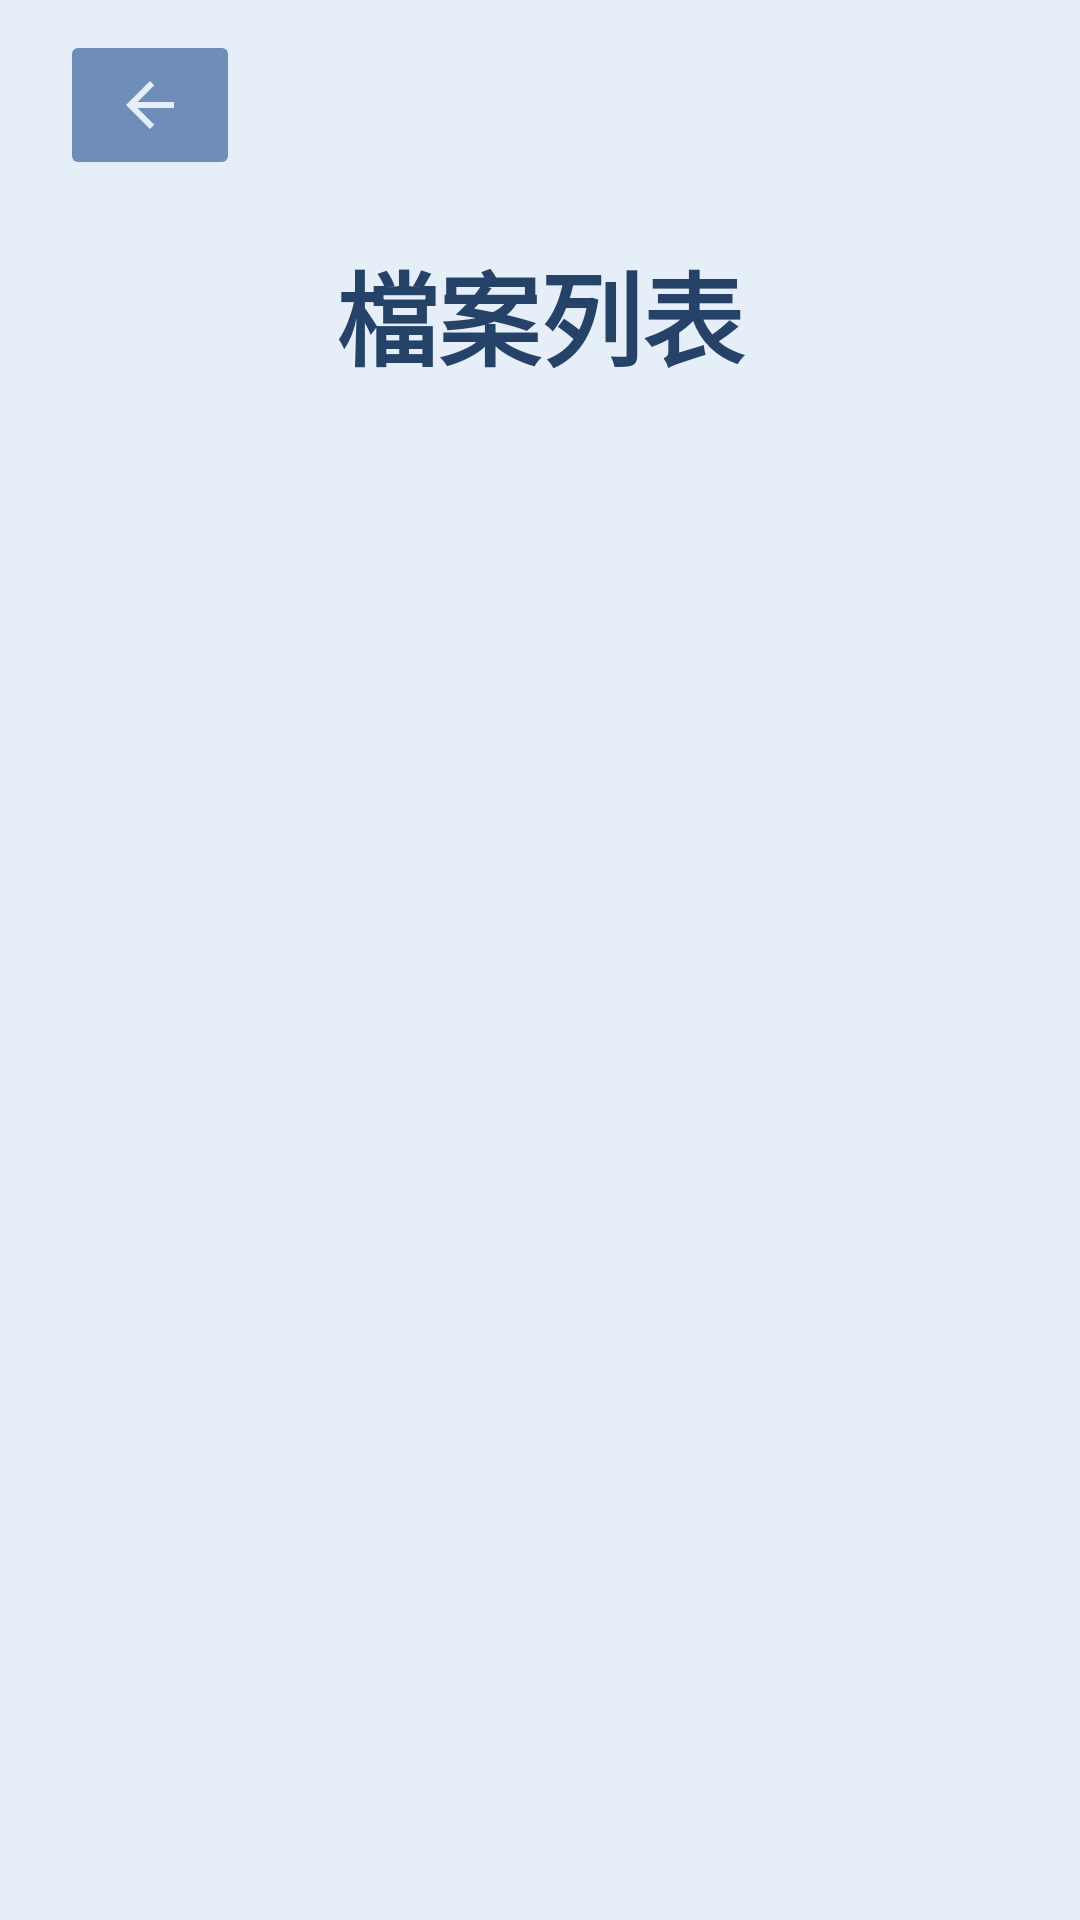

Locate icon controls on the screen. Image size 1080*1920, boxes as bbox=(x1, y1, x2, y2).
back arrow: bbox=(72, 48, 228, 162)
